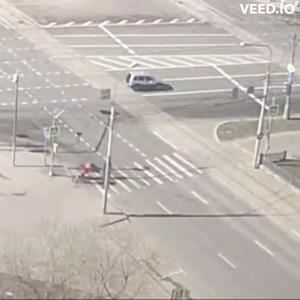car: (127, 73, 174, 93)
